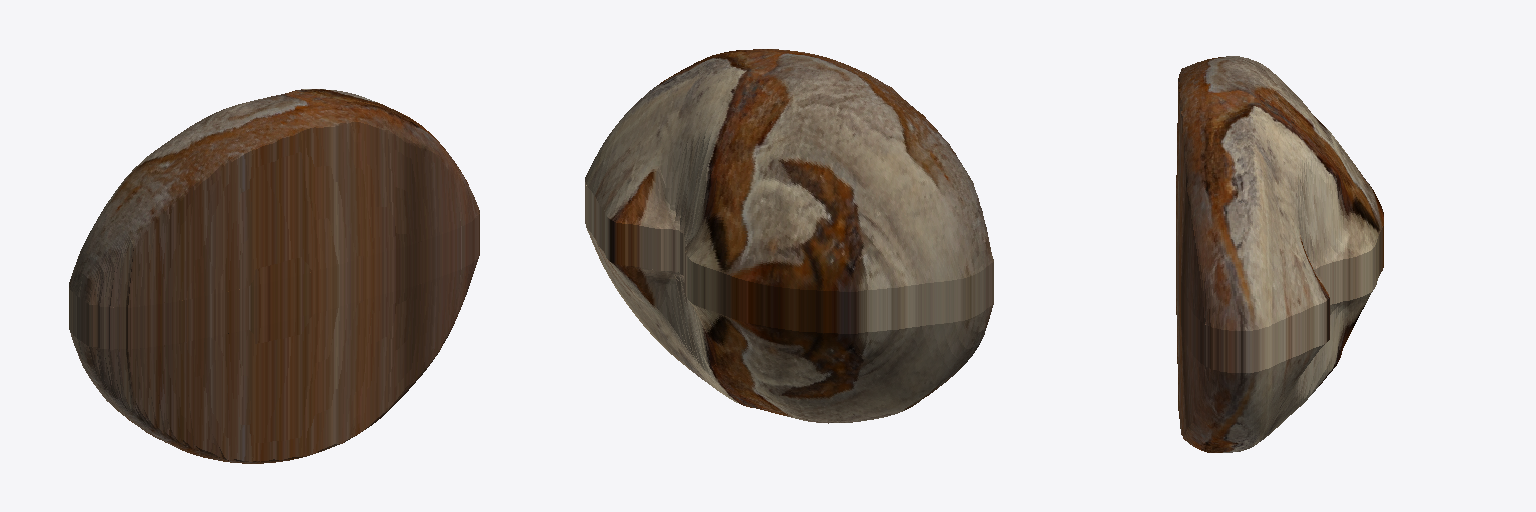
3 renders of one model, left to right at view 1: azimuth 30°, elevation 25°; view 2: azimuth 150°, elevation 25°; view 3: azimuth 270°, elevation 25°, orthographic.
Visible parts, largest first — view 1: Grid; view 2: Grid; view 3: Grid.
Boxes of the visible parts, x1=… form: Grid: x1=69, y1=89, x2=479, y2=463; Grid: x1=585, y1=49, x2=993, y2=423; Grid: x1=1176, y1=56, x2=1383, y2=452.
Size of the model in its own units: 2.36 by 2 by 1.08.
Materials: 1 (1 with a texture image).